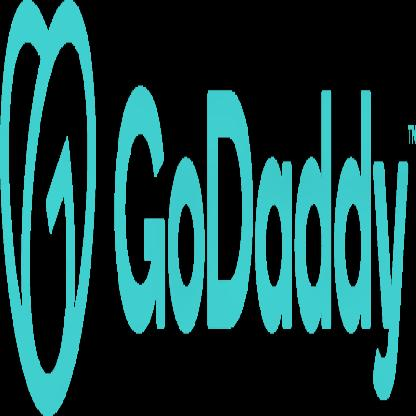Go Daddy: (115, 87, 411, 406), (0, 0, 96, 416)
